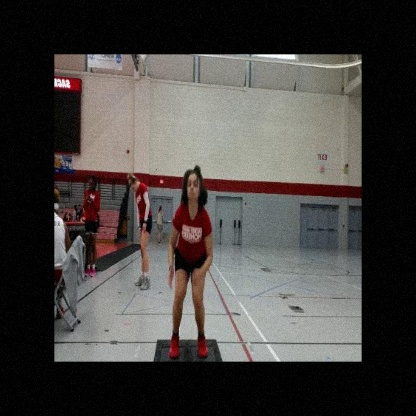lateral_flexion_right: (166, 162, 215, 361)
stance_width_normal: (167, 198, 215, 362)
